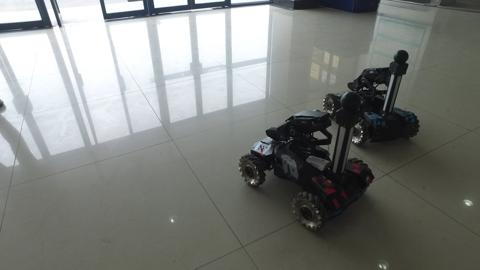chariot: (237, 93, 374, 235), (324, 46, 424, 148)
